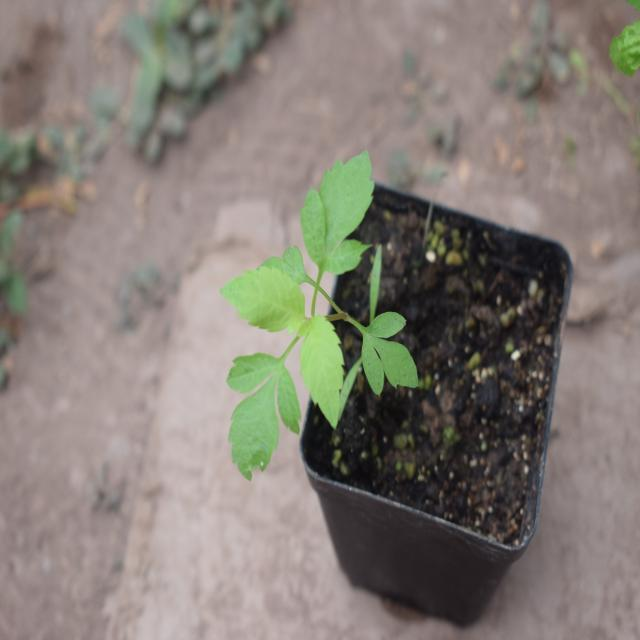Bidens pilosa: (209, 146, 435, 483)
